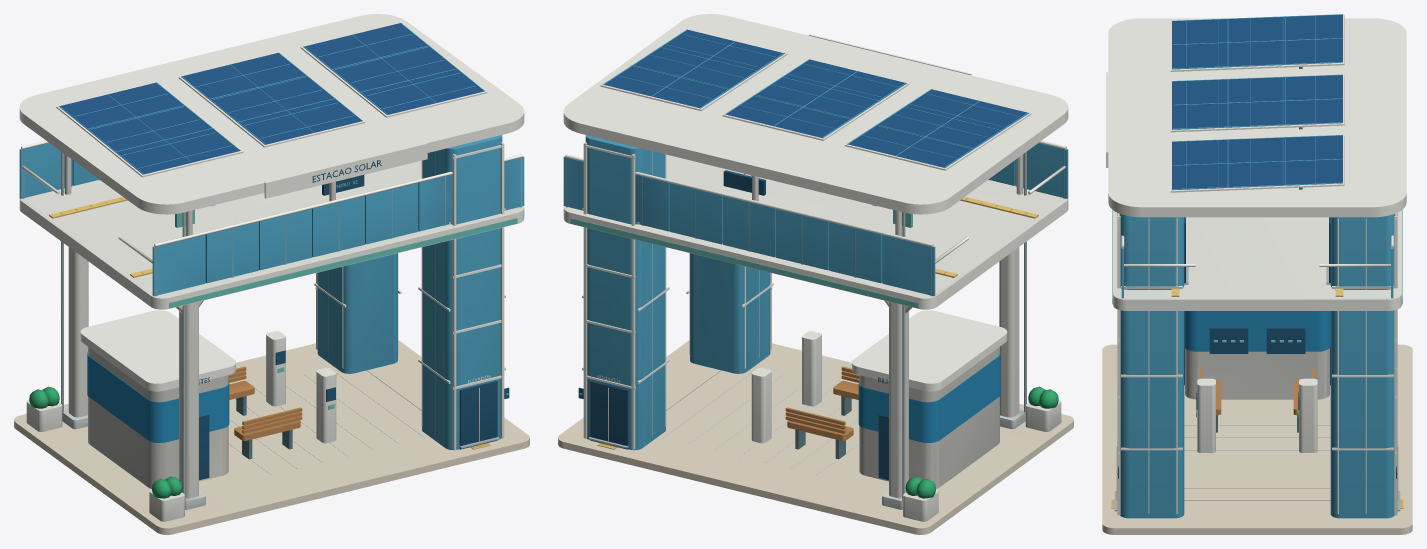
Rendered from solar-station.glb.
The picture shows the model from 3 angles, left to right: view 1: azimuth 30°, elevation 25°; view 2: azimuth 150°, elevation 25°; view 3: azimuth 270°, elevation 25°; orthographic projection.
Parts seen in each view (by area): view 1: station pier, solar cell division, station ground plaza, photovoltaic cells, service pavilion glazing, service hall door, platform perimeter fascia, lift threshold, ground waiting seat, pier base shoe, station planter shrub, platform tactile strip; view 2: station pier, solar cell division, station ground plaza, photovoltaic cells, service pavilion glazing, service hall door, platform perimeter fascia, lift threshold, ground waiting seat, pier base shoe, station planter shrub, platform tactile strip; view 3: station pier, solar cell division, station ground plaza, photovoltaic cells, service pavilion glazing, service hall door, pier base shoe, ground waiting seat.
Boxes of the visible parts, box(x1,y1,x2,y2) form: station pier: box(19, 14, 524, 521); solar cell division: box(19, 23, 524, 450); station ground plaza: box(14, 340, 529, 534); photovoltaic cells: box(59, 23, 484, 174); service pavilion glazing: box(87, 352, 229, 442); service hall door: box(199, 160, 509, 480); platform perimeter fascia: box(169, 210, 517, 409); lift threshold: box(23, 149, 521, 500); ground waiting seat: box(228, 366, 302, 440); pier base shoe: box(62, 205, 424, 509); station planter shrub: box(29, 386, 182, 498); platform tactile strip: box(49, 197, 490, 449); station pier: box(563, 14, 1068, 521); solar cell division: box(563, 29, 1068, 450); station ground plaza: box(558, 340, 1073, 534); photovoltaic cells: box(603, 30, 1028, 167); service pavilion glazing: box(858, 352, 1000, 442); service hall door: box(578, 170, 888, 480); platform perimeter fascia: box(570, 210, 918, 308); lift threshold: box(566, 149, 1064, 500); ground waiting seat: box(785, 366, 859, 440); pier base shoe: box(663, 175, 1025, 509); station planter shrub: box(905, 386, 1058, 498); platform tactile strip: box(597, 197, 1038, 449); station pier: box(1106, 14, 1406, 515); solar cell division: box(1119, 14, 1395, 518); station ground plaza: box(1102, 344, 1412, 534); photovoltaic cells: box(1172, 14, 1342, 190); service pavilion glazing: box(1184, 311, 1330, 351); service hall door: box(1118, 217, 1396, 478); pier base shoe: box(1184, 412, 1330, 500); ground waiting seat: box(1199, 367, 1315, 415).
Bounding box in the file's own units: 7.2 × 6.12 × 5.
